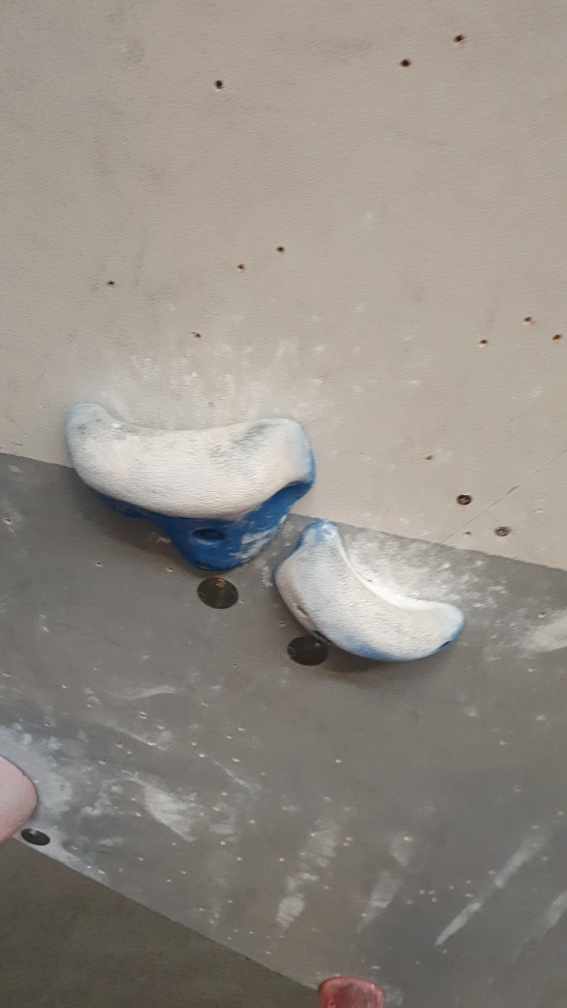Hand Start: (195, 570, 249, 620), (283, 627, 329, 673), (22, 824, 61, 855)
Jug: (64, 394, 320, 582), (276, 523, 461, 675)
